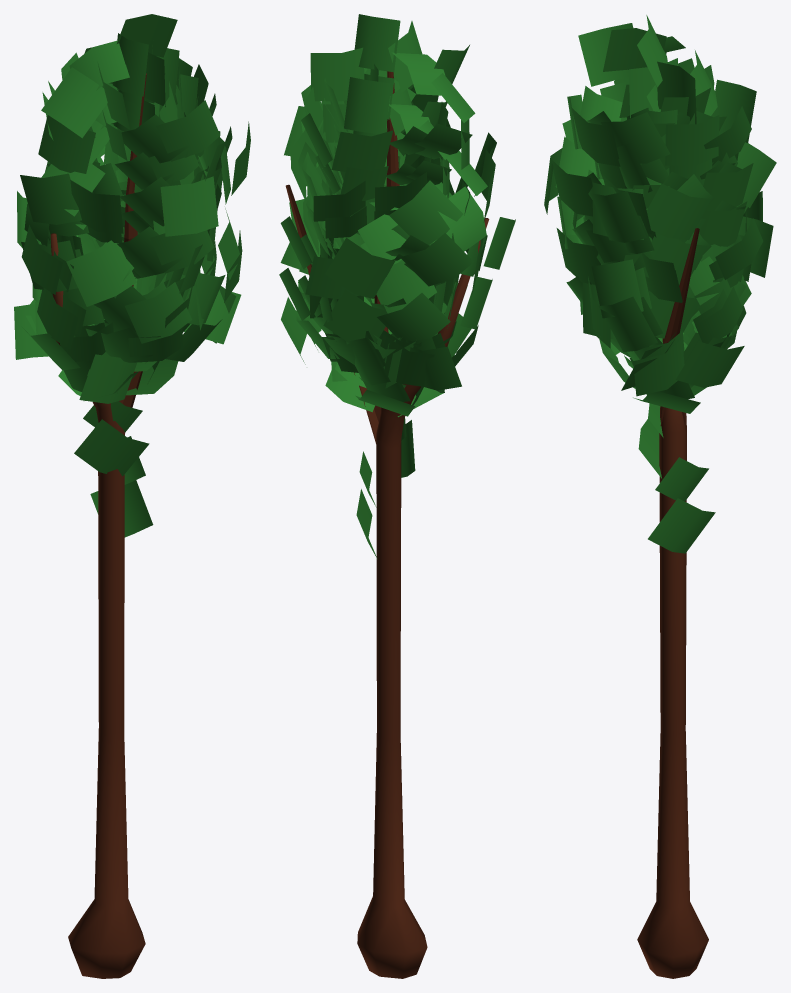
Rendered from tree3Birch.fbx.
3 renders of one model, left to right at view 1: azimuth 30°, elevation 25°; view 2: azimuth 150°, elevation 25°; view 3: azimuth 270°, elevation 25°, orthographic. The views are drawn at different scales.
Parts seen in each view (by area): view 1: inner leaves.002, trunk3, inner leaves.003; view 2: inner leaves.002, trunk3, inner leaves.003; view 3: inner leaves.002, trunk3, inner leaves.003.
Boxes of the visible parts, bbox=[...] form: inner leaves.002: bbox=[14, 14, 250, 537]; trunk3: bbox=[50, 73, 146, 978]; inner leaves.003: bbox=[35, 73, 222, 484]; inner leaves.002: bbox=[279, 14, 515, 559]; trunk3: bbox=[285, 71, 489, 978]; inner leaves.003: bbox=[298, 74, 486, 507]; inner leaves.002: bbox=[544, 15, 776, 553]; trunk3: bbox=[637, 228, 708, 978]; inner leaves.003: bbox=[572, 81, 751, 501].
Bounding box in the file's own units: 1560 × 6487 × 1430.
